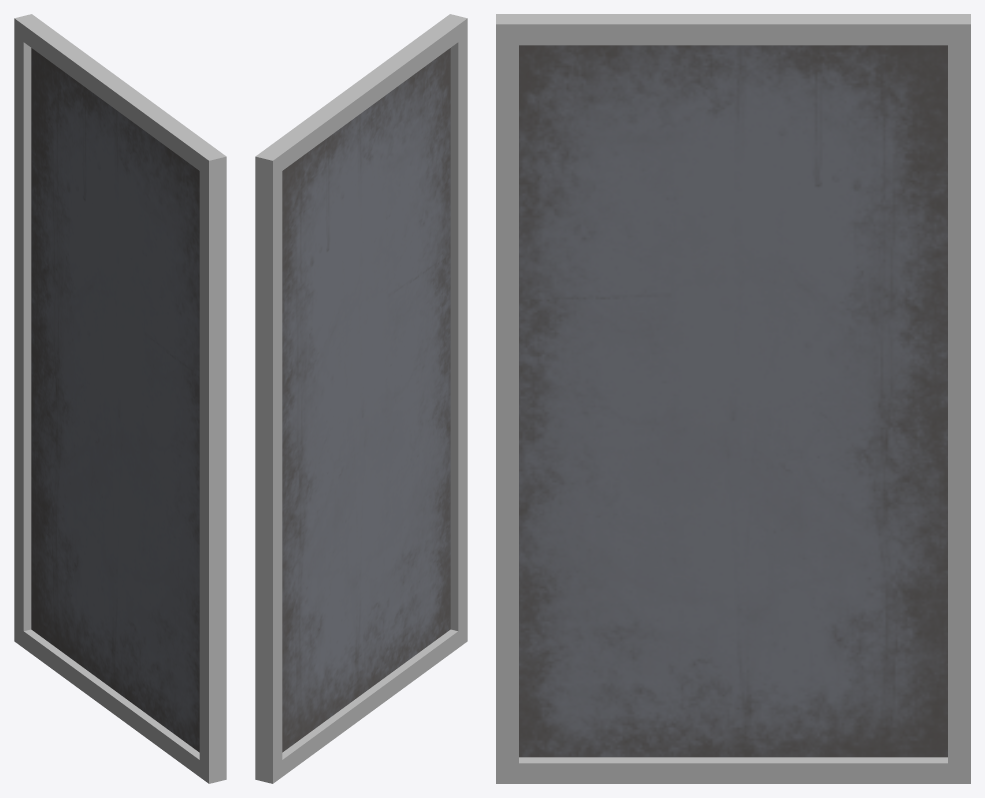
Rendered from SM_window2f.fbx.
3 views of the same model, side by side, from view 1: azimuth 30°, elevation 25°; view 2: azimuth 150°, elevation 25°; view 3: azimuth 270°, elevation 25° (orthographic). The views are drawn at different scales.
Visible parts, largest first — view 1: SM_window2f; view 2: SM_window2f; view 3: SM_window2f.
Part boxes in pixels (left/top/right/bottom): SM_window2f: left=14, top=14, right=226, bottom=783; SM_window2f: left=255, top=14, right=467, bottom=783; SM_window2f: left=496, top=14, right=970, bottom=783.
Size of the model in its own units: 7 by 135 by 238.
